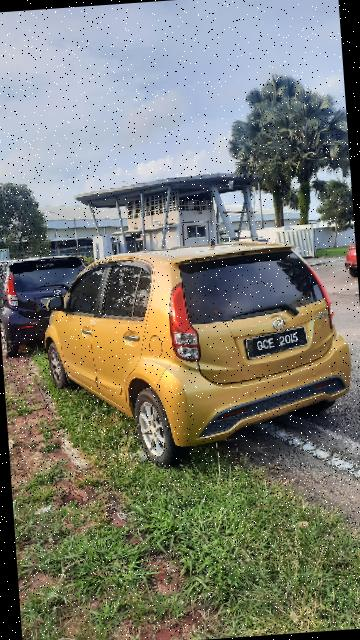License_Plate: (240, 321, 313, 364)
car: (31, 234, 360, 479), (1, 243, 105, 362)
